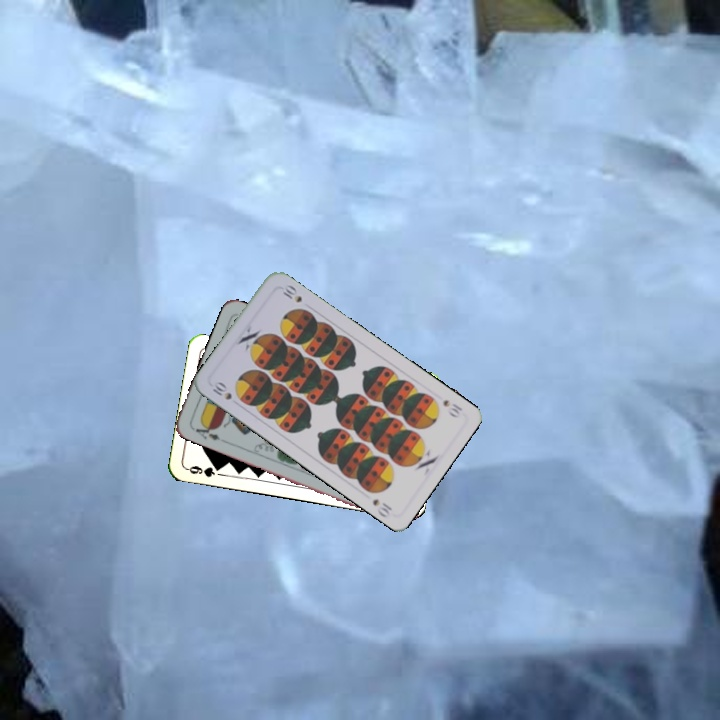EA: (188, 418, 223, 443)
G9: (183, 462, 224, 480)
S10: (208, 377, 235, 403), (439, 395, 465, 421)
